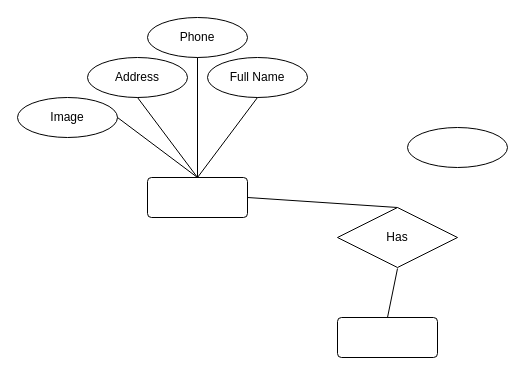
Image size: 525x375. Some labels were removed from this diagram. The shapes that lost their labels are listed below. From the top down, each one's box as (x1, y1, x2, y2) in pixels, then its label:
(406, 126, 508, 168): Attribute
(146, 176, 248, 218): User
(336, 316, 438, 358): Library
